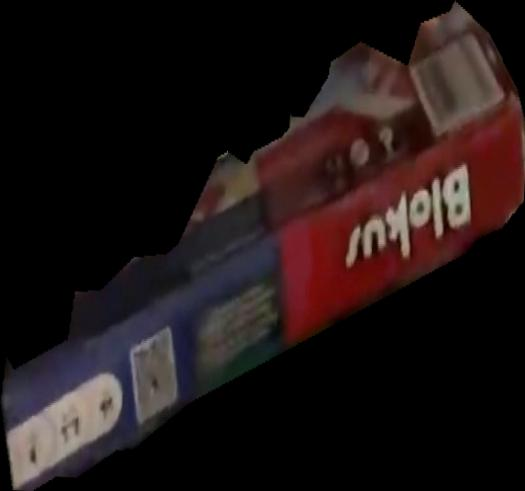flat: (1, 1, 525, 491)
